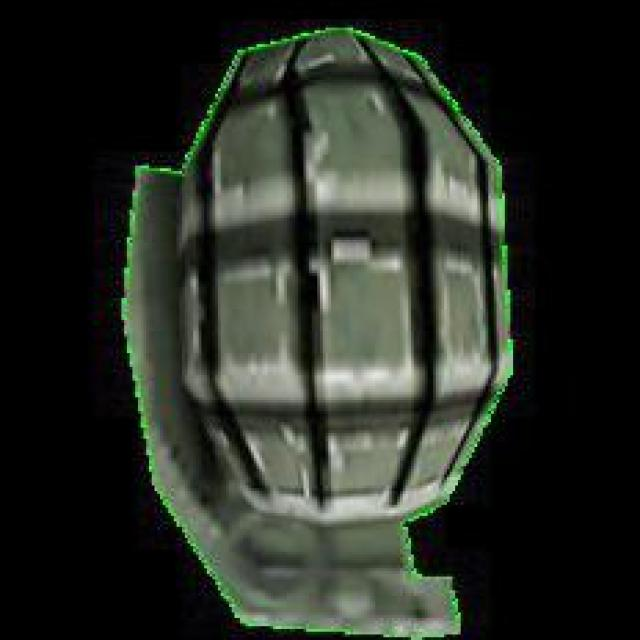grenade: (128, 32, 513, 638)
